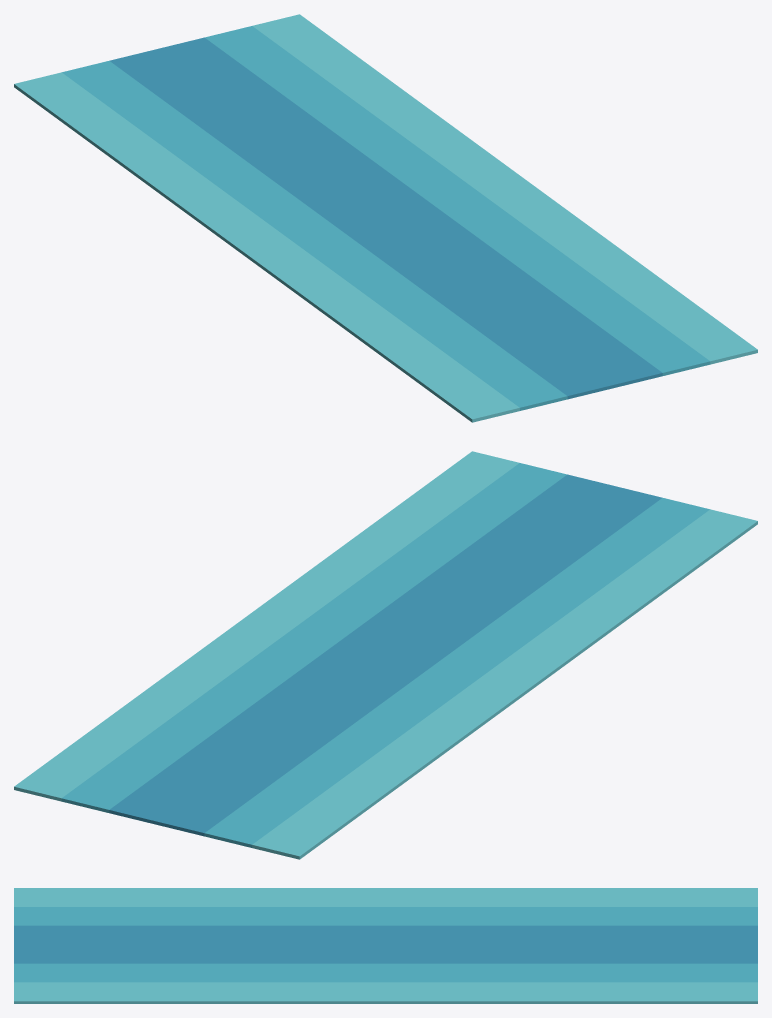
The picture shows the model from 3 angles, top to bottom: view 1: azimuth 30°, elevation 25°; view 2: azimuth 150°, elevation 25°; view 3: azimuth 270°, elevation 25°; orthographic projection. The views are drawn at different scales.
Parts seen in each view (by area): view 1: 河流_六层水色.001; view 2: 河流_六层水色.001; view 3: 河流_六层水色.001.
Part boxes in pixels (x1,y1,x2,y2): 河流_六层水色.001: (14,14,757,422); 河流_六层水色.001: (14,451,757,859); 河流_六层水色.001: (14,888,757,1003).
Bounding box in the file's own units: 0.72 × 0.008 × 2.
